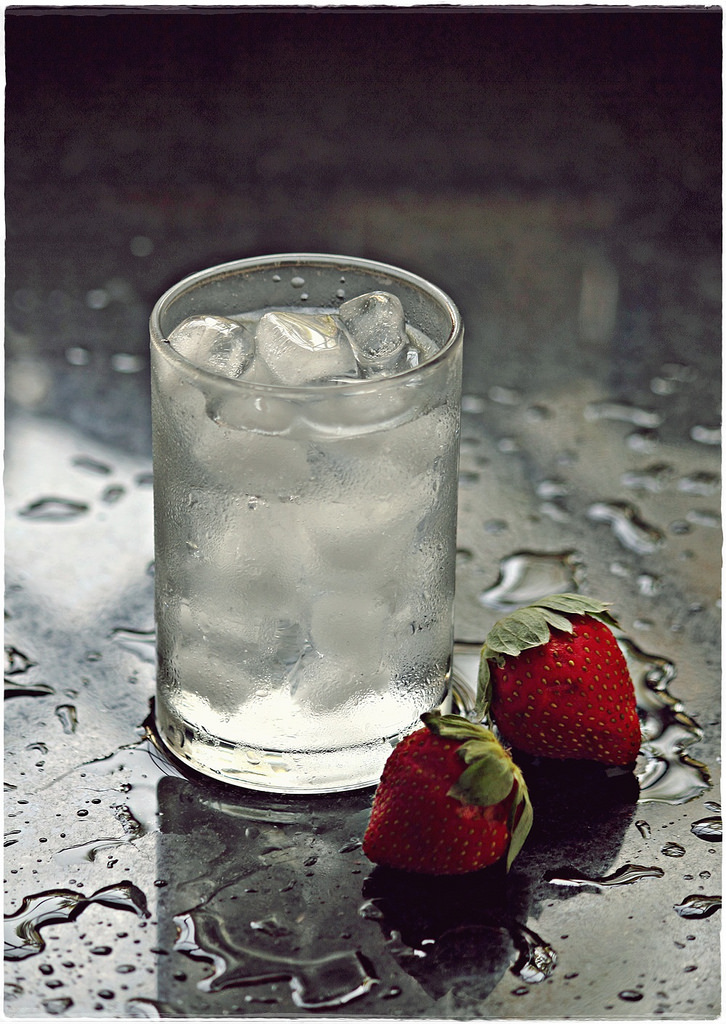glass of water: (117, 237, 473, 831)
